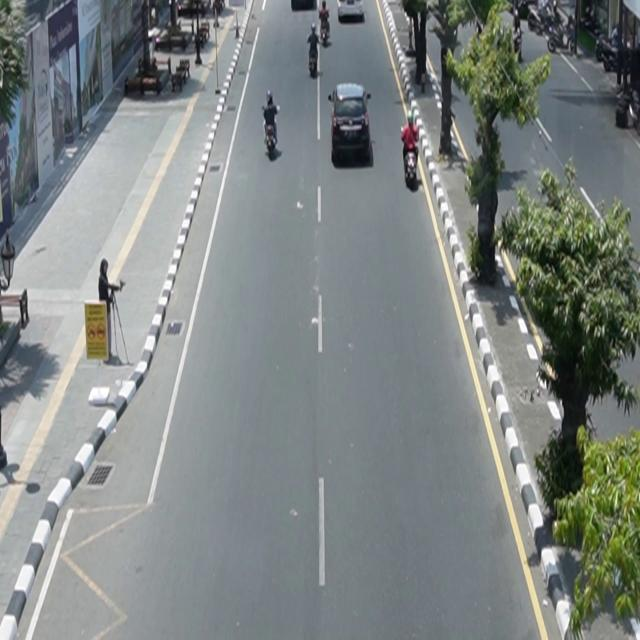car: (329, 83, 373, 163)
